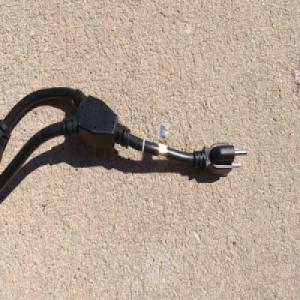Wire: (0, 85, 249, 212)
